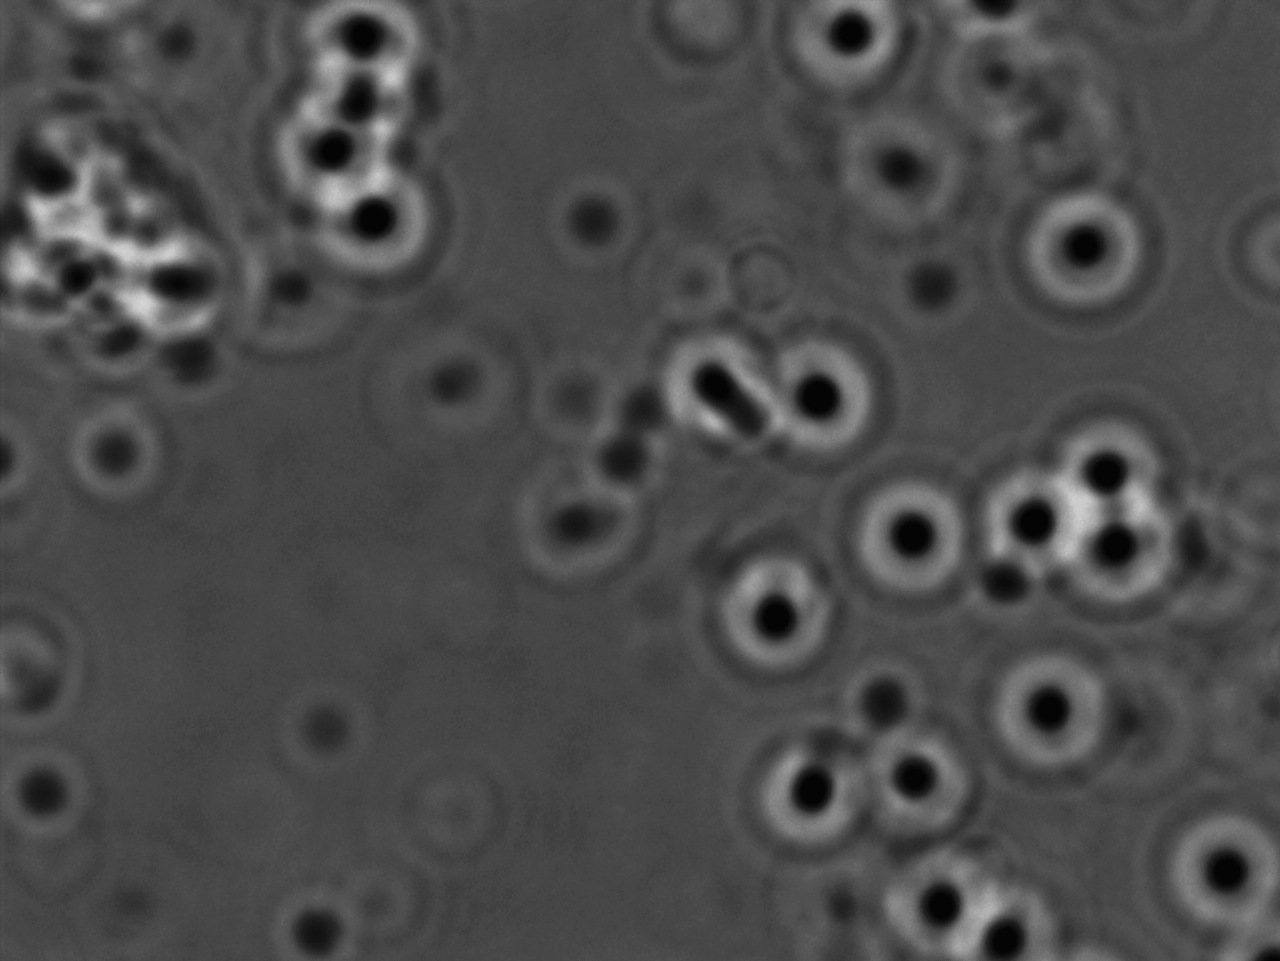depth:-32: (1003, 183, 1163, 335), (1150, 786, 1280, 943), (987, 642, 1125, 786), (1038, 391, 1183, 526), (305, 144, 451, 279), (739, 725, 880, 857), (256, 78, 389, 218), (833, 466, 968, 603), (1046, 493, 1187, 622), (742, 337, 880, 465), (694, 551, 836, 675), (848, 710, 980, 841), (971, 446, 1080, 578), (882, 848, 1001, 954)
